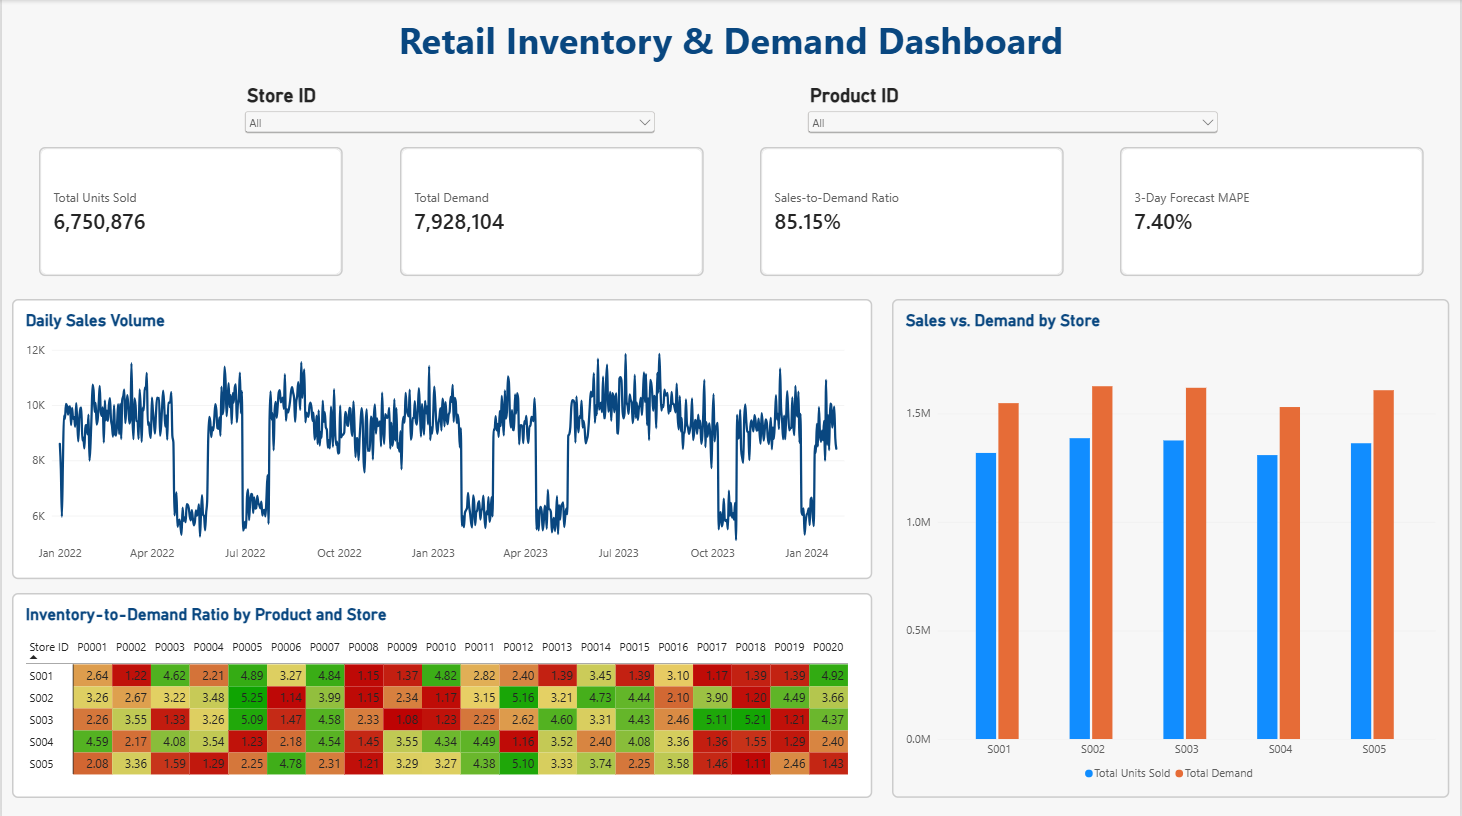

The dashboard page shown, as its layout file describes it:
{"tool":"powerbi","page":{"name":"Dashboard","canvas":[1920,1080],"ordinal":0},"visuals":[{"type":"cardVisual","fields":{"Data":["sales_data.Total Units Sold"]},"box":[49.3,193.3,400,170],"z":0},{"type":"cardVisual","fields":{"Data":["sales_data.Total Demand"]},"box":[523.6,193.3,400,170],"z":1000},{"type":"cardVisual","fields":{"Data":["sales_data.Sales to Demand Ratio"]},"box":[997.8,193.3,400,170],"z":2000},{"type":"lineChart","title":"Daily Sales Volume","fields":{"Category":["sales_data.Date"],"Y":["sales_data.Total Units Sold"]},"box":[13.2,393.8,1132.7,368.8],"z":3000},{"type":"slicer","fields":{"Values":["sales_data.Store ID"]},"box":[314.7,110.7,550,200],"z":4000},{"type":"slicer","fields":{"Values":["sales_data.Product ID"]},"box":[1056,110.7,550,200],"z":5000},{"type":"pivotTable","title":"Inventory-to-Demand Ratio by Product and Store","fields":{"Columns":["sales_data.Product ID"],"Rows":["sales_data.Store ID"],"Values":["sales_data.Inventory to Demand Ratio"]},"box":[13.2,781,1132.7,270],"z":6000},{"type":"clusteredColumnChart","title":"Sales vs. Demand by Store","fields":{"Category":["sales_data.Store ID"],"Y":["sales_data.Total Units Sold","sales_data.Total Demand"]},"box":[1172.2,393.8,733.6,657.2],"z":7000},{"type":"textbox","box":[0,0,1920.3,110.6],"z":8000},{"type":"cardVisual","fields":{"Data":["Forecast Accuracy Summary.3-Day Forecast MAPE"]},"box":[1472,193.3,400,170],"z":9000}]}

Visuals, with their boxes in screenshot pixels (x1, y1, x2, y2), scaled from the page's 1920x1080 canvas onto the 1462x816 screenshot:
cardVisual - sales_data.Total Units Sold: (38, 146, 342, 274)
cardVisual - sales_data.Total Demand: (399, 146, 703, 274)
cardVisual - sales_data.Sales to Demand Ratio: (760, 146, 1064, 274)
"Daily Sales Volume" lineChart: (10, 298, 873, 576)
slicer - sales_data.Store ID: (240, 84, 658, 235)
slicer - sales_data.Product ID: (804, 84, 1223, 235)
"Inventory-to-Demand Ratio by Product and Store" pivotTable: (10, 590, 873, 794)
"Sales vs. Demand by Store" clusteredColumnChart: (893, 298, 1451, 794)
textbox: (0, 0, 1461, 84)
cardVisual - Forecast Accuracy Summary.3-Day Forecast MAPE: (1121, 146, 1425, 274)
